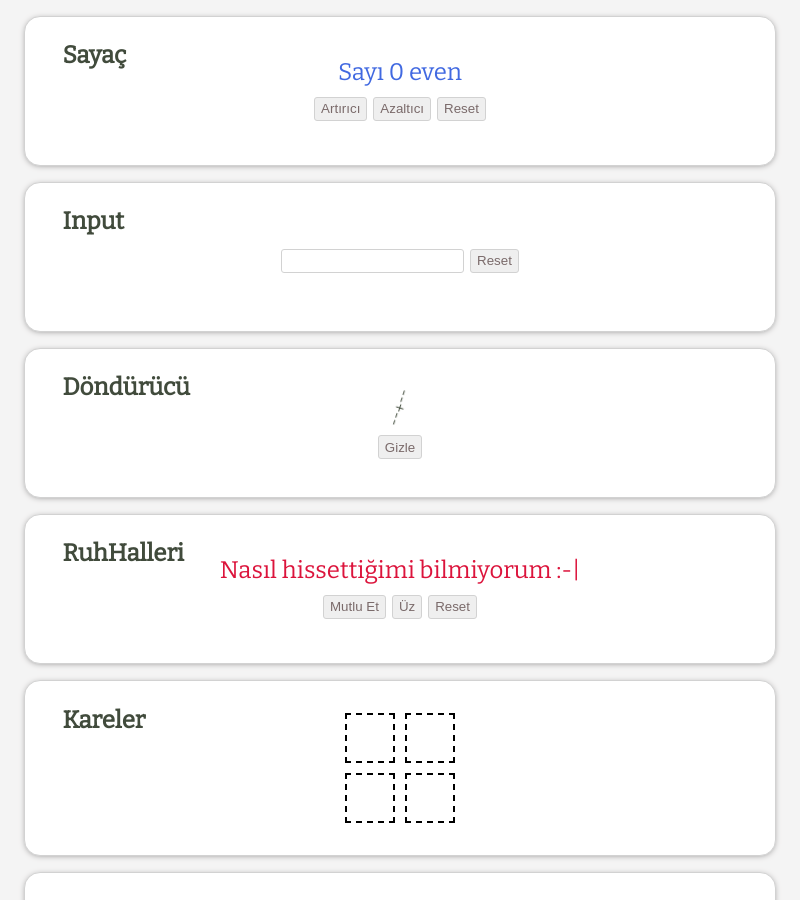
it: Spinner › Dondurucu testleri › döndürücü toogle çalışıyor
The image size is (800, 900).
Step 1. Click the button with id "toggleDondurucu" → x=400, y=447, box [378,435,422,459]
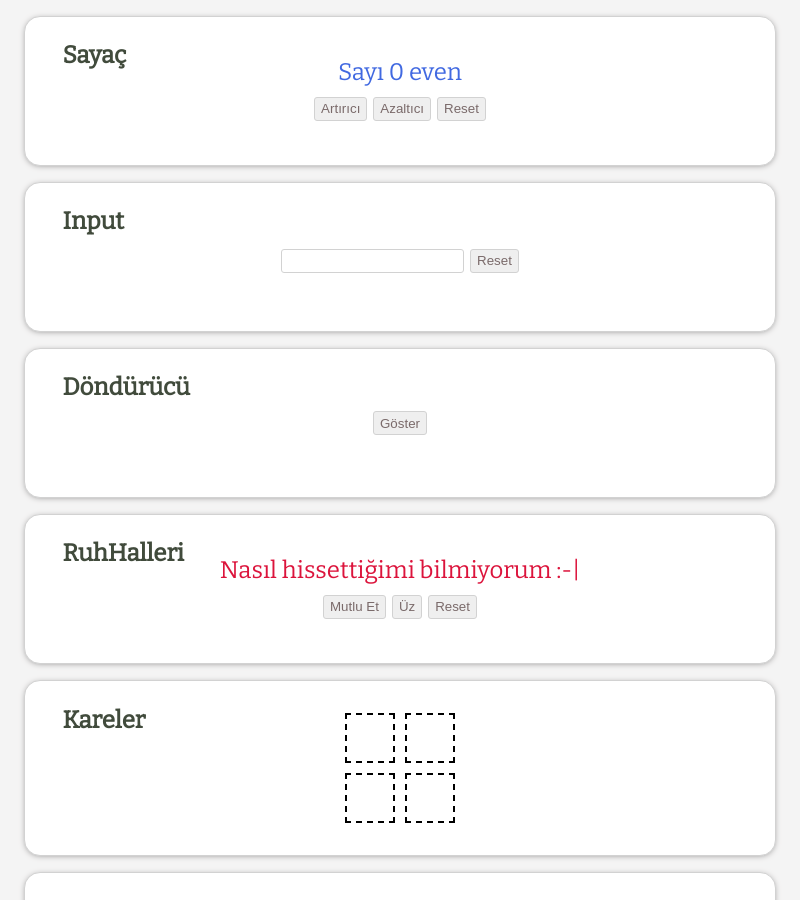
Expected: the text with id "döndürücü" is gone
Step 2. Click the button with id "toggleDondurucu" → x=400, y=423, box [373,411,427,435]
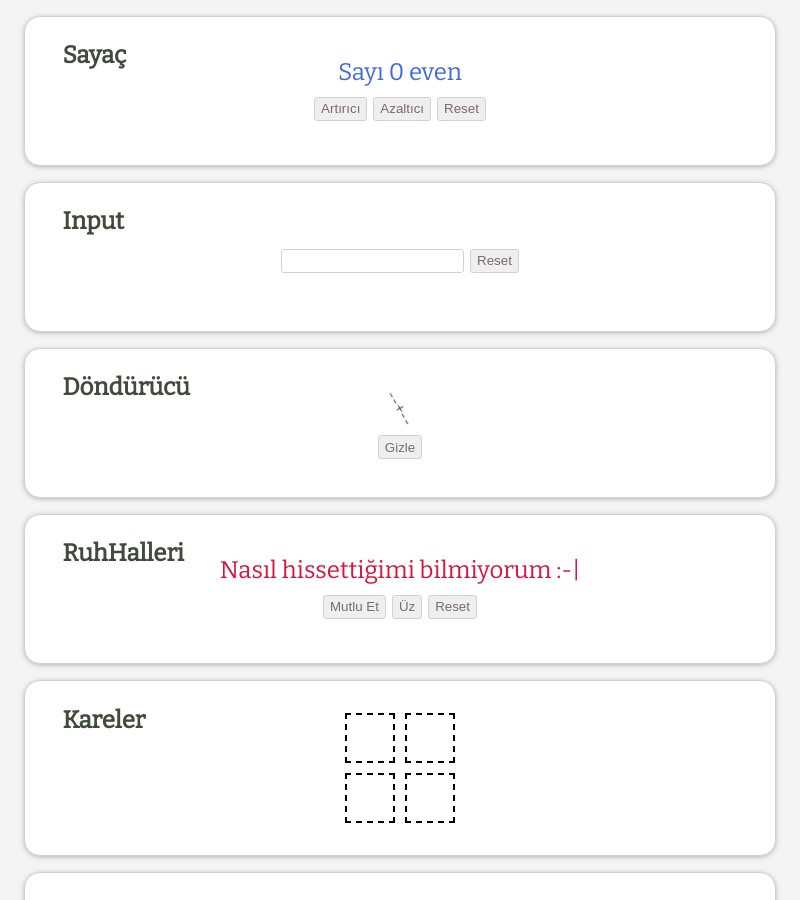
Expected: the text "--+--" is shown, [380,387,420,429]
